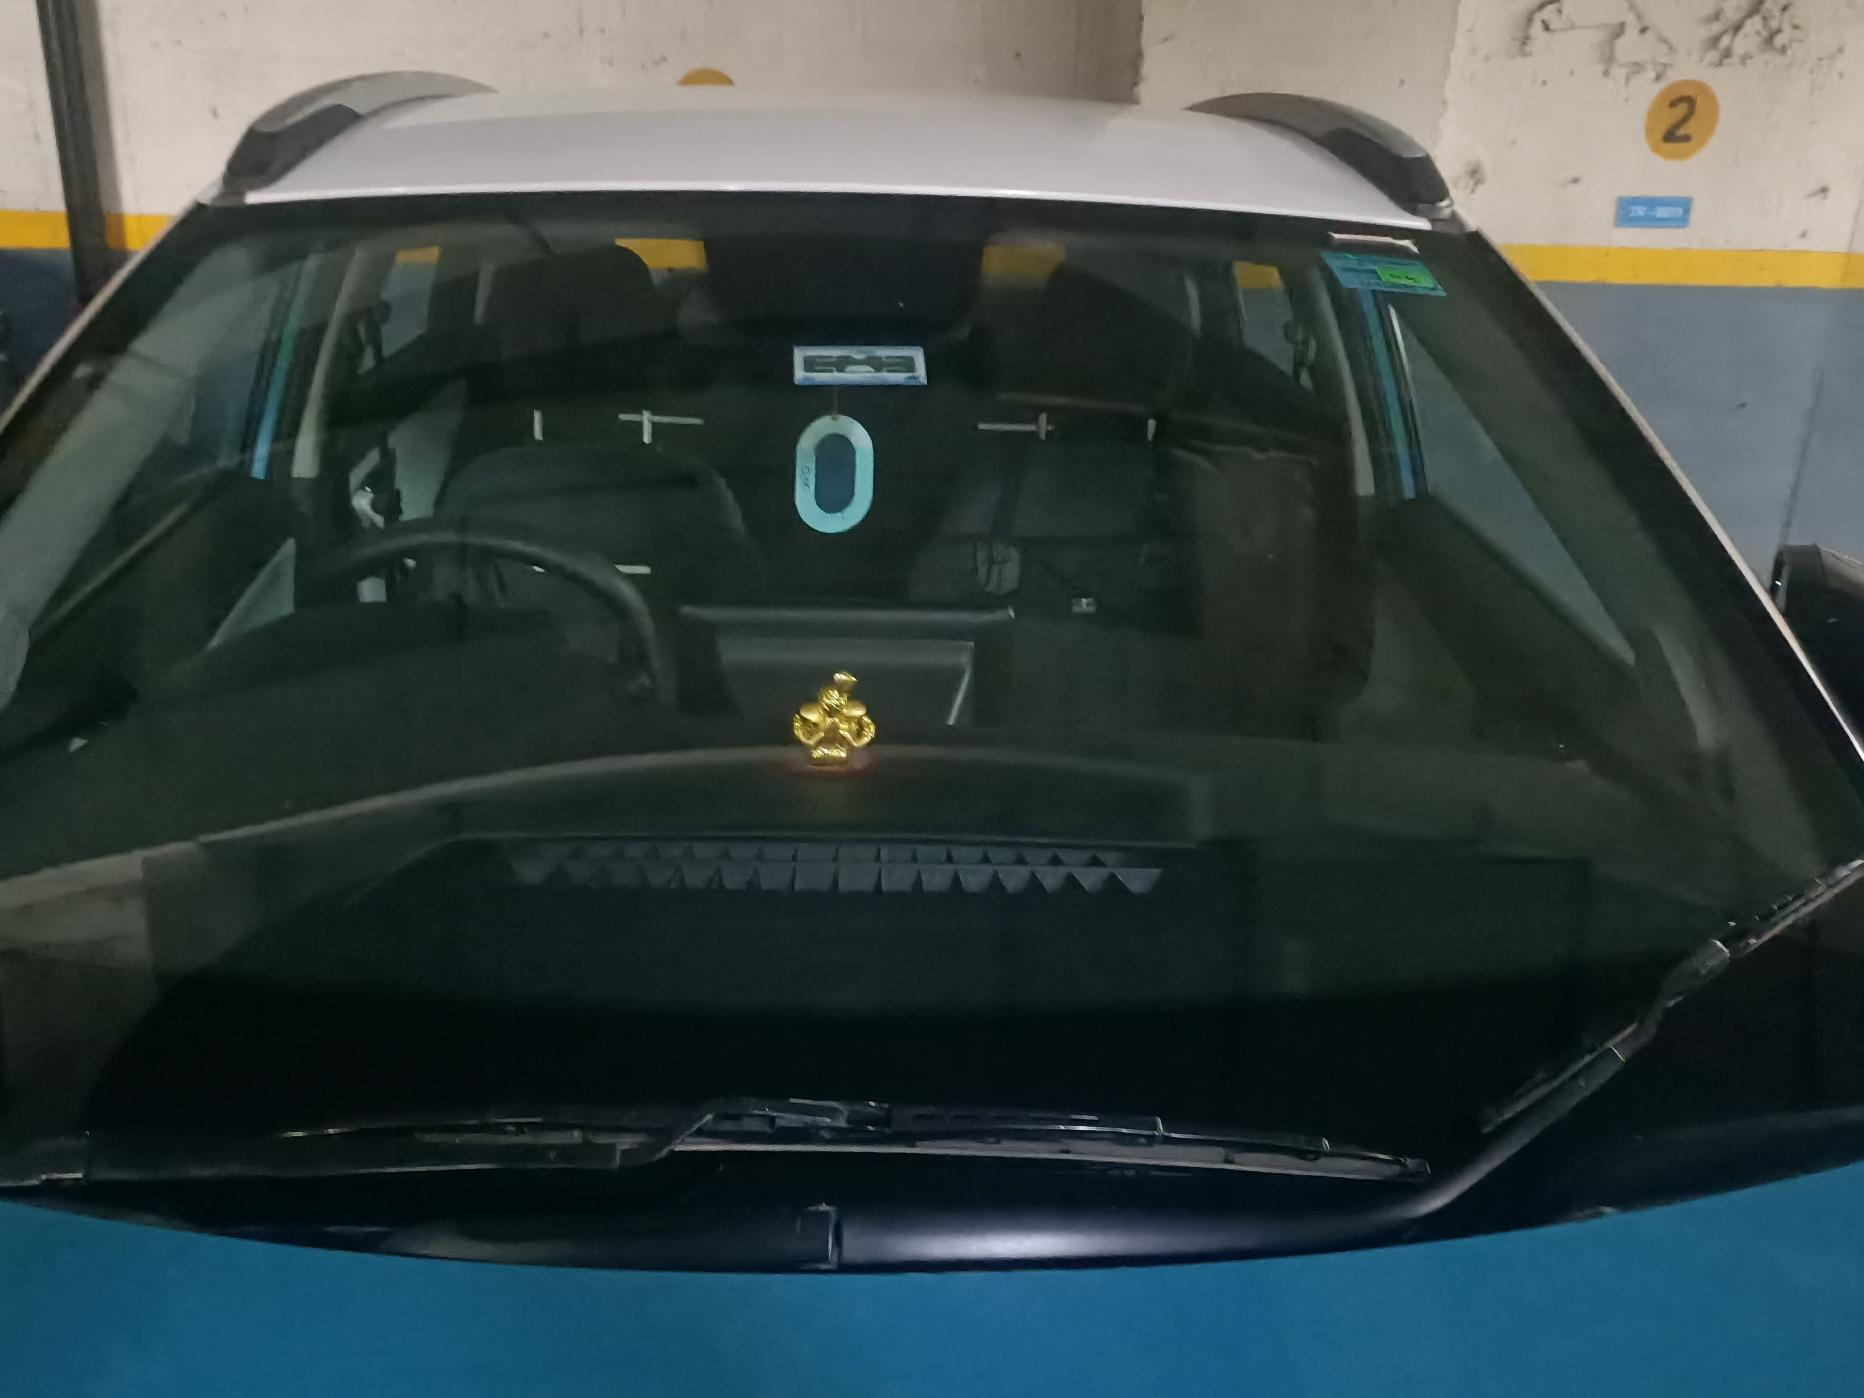FastTag: (775, 329, 945, 405)
not a FastTag: (1312, 244, 1450, 313)
